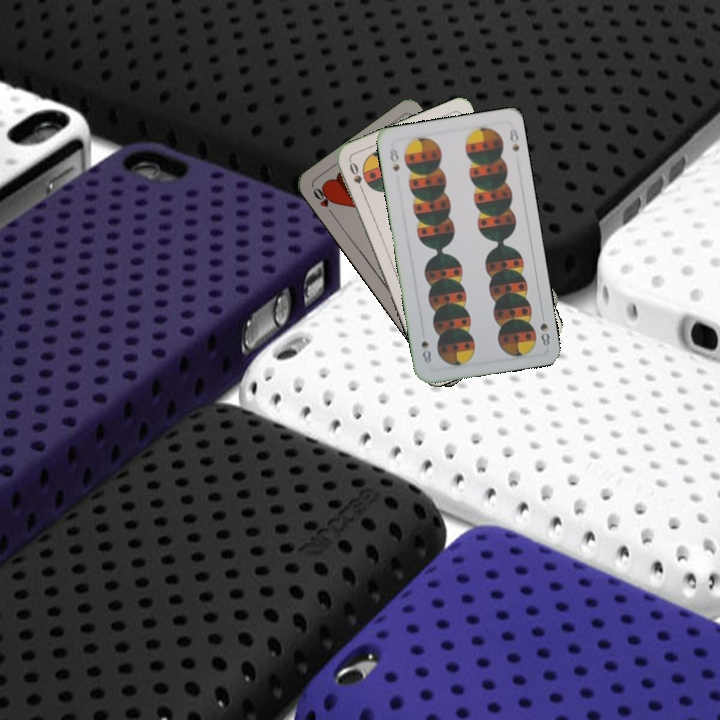HO: (309, 184, 337, 219)
S8: (536, 308, 552, 349), (386, 144, 402, 174)
SO: (345, 157, 367, 196)
